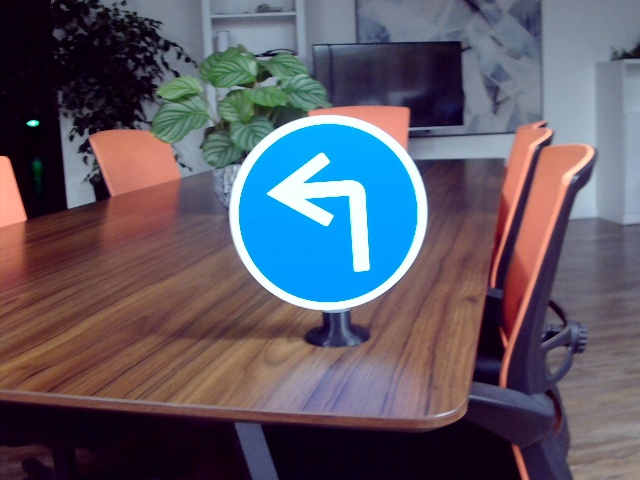turn_left: (264, 154, 381, 273)
